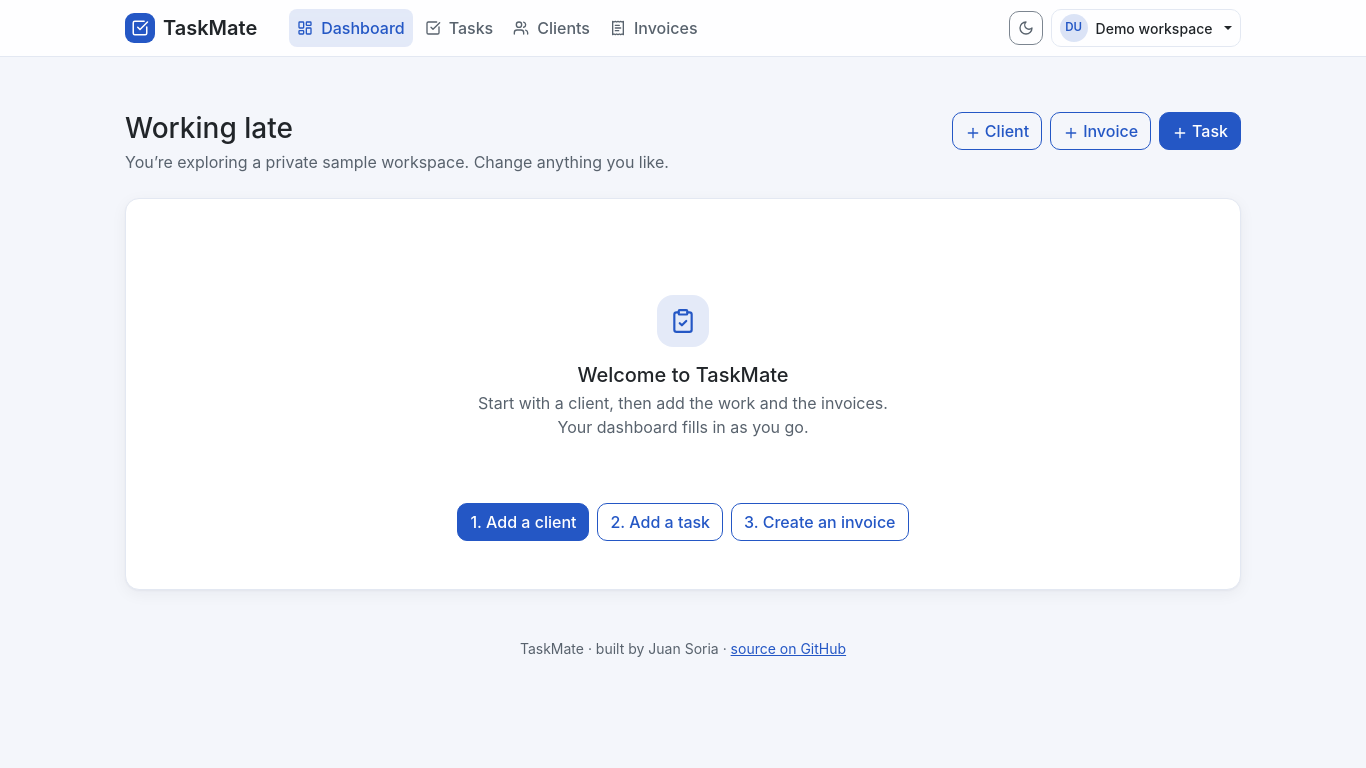
Test: App shell › account menu › labels the demo workspace honestly and offers to remove it
expect the heading "Working late" is shown: met, box [125, 111, 293, 145]
expect the text "Demo workspace" is shown: met, box [1096, 18, 1212, 38]
Click the button with aria-label "Account menu" at (1146, 28), box [1051, 9, 1241, 47]
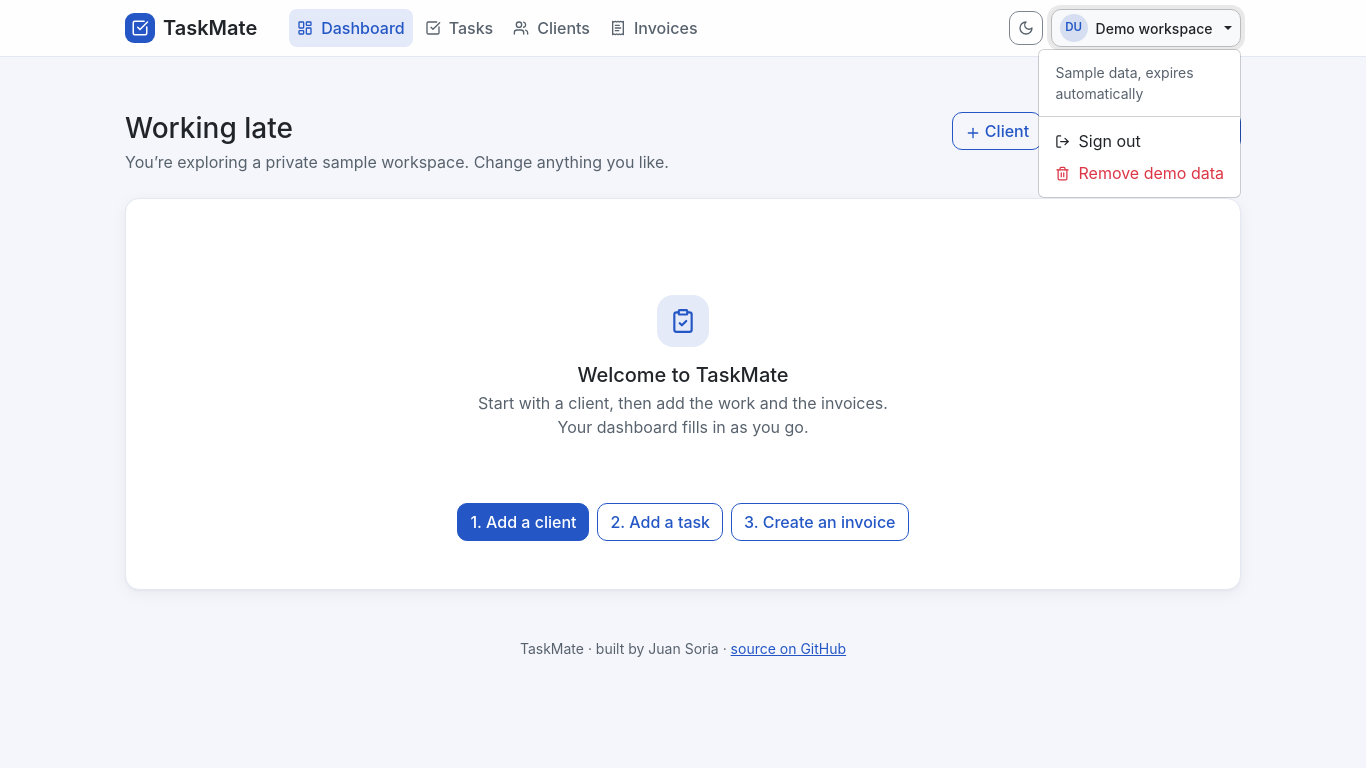
expect the text "Sample data, expires automatically" is shown: met, box [1056, 64, 1194, 102]
expect the button "Remove demo data" is shown: met, box [1056, 163, 1224, 183]
